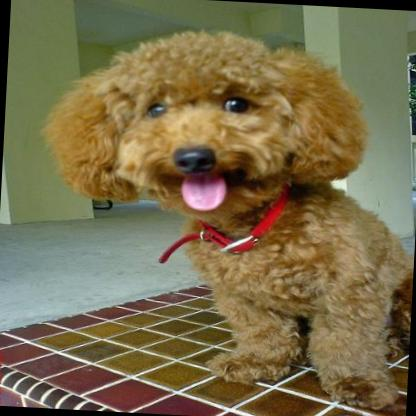toy_poodle: (25, 20, 416, 409)
